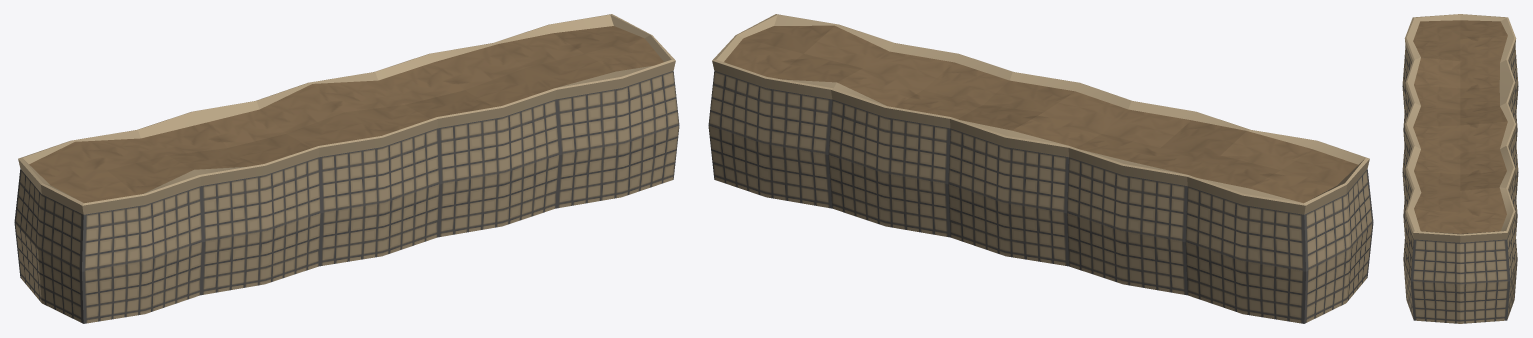
File: SM_Prop_Barrier_Base_Row_02.fbx
3 views of the same model, side by side, from view 1: azimuth 30°, elevation 25°; view 2: azimuth 150°, elevation 25°; view 3: azimuth 270°, elevation 25° (orthographic). The views are drawn at different scales.
Visible parts, largest first — view 1: SM_Prop_Barrier_Base_Row_02; view 2: SM_Prop_Barrier_Base_Row_02; view 3: SM_Prop_Barrier_Base_Row_02.
Boxes of the visible parts, left/top/right/bottom form: SM_Prop_Barrier_Base_Row_02: left=14, top=14, right=679, bottom=323; SM_Prop_Barrier_Base_Row_02: left=708, top=14, right=1373, bottom=323; SM_Prop_Barrier_Base_Row_02: left=1402, top=14, right=1518, bottom=323.
Size of the model in its own units: 556 by 105 by 122.
